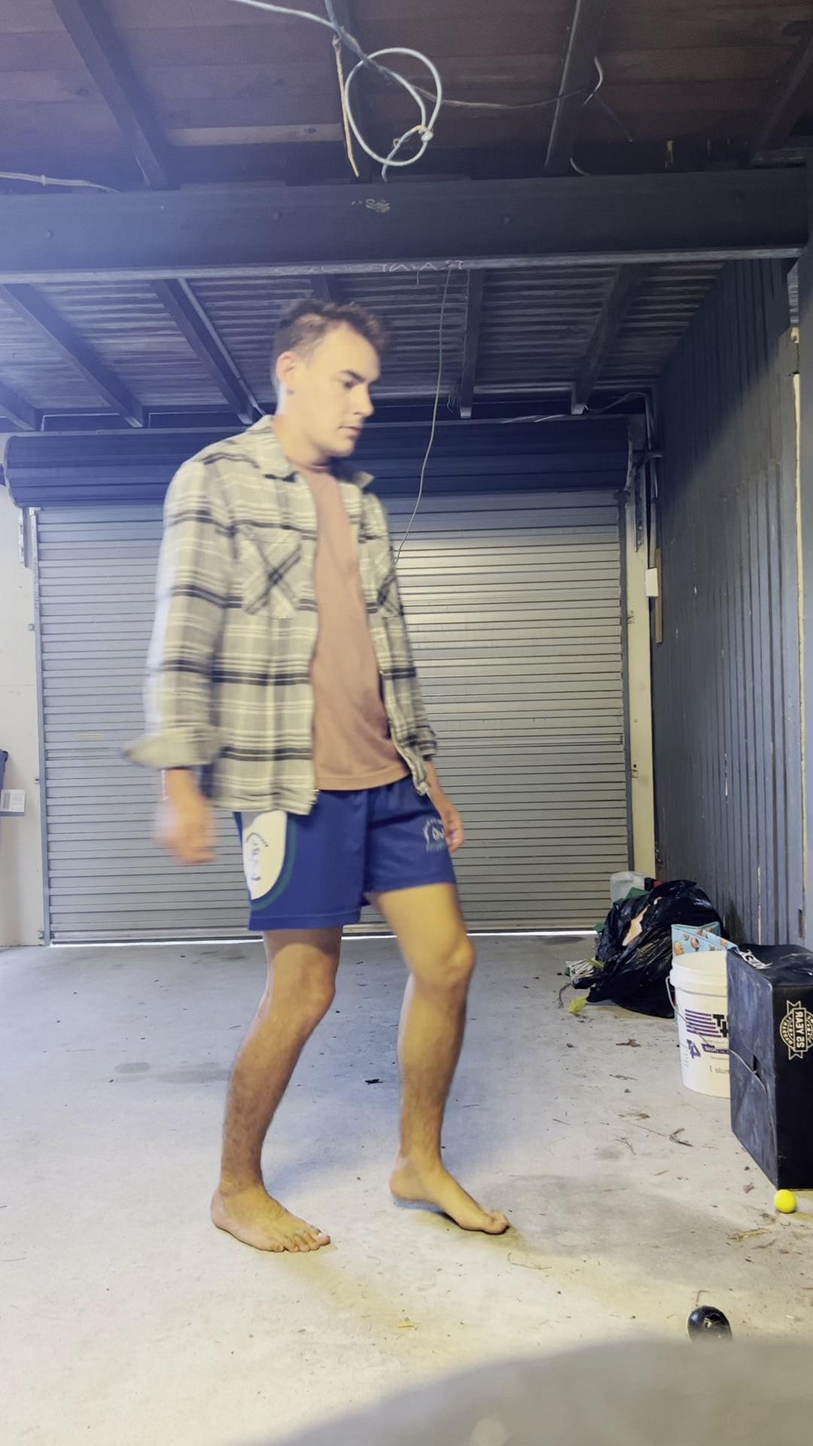foot: (211, 1156, 330, 1262), (390, 1146, 511, 1238)
person: (140, 302, 506, 1258)
